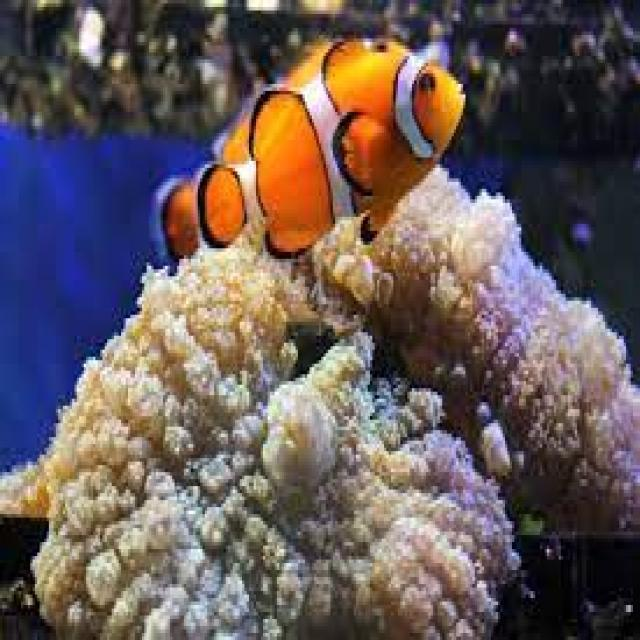ClownFish: (158, 39, 466, 258)
